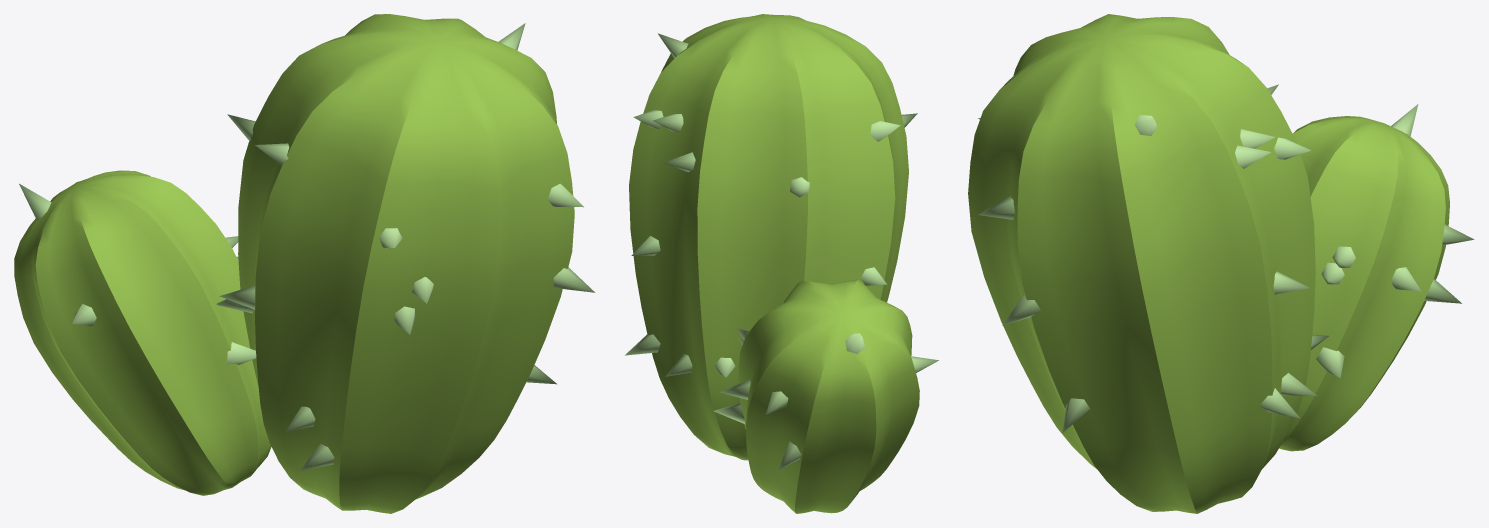
File: Cactus_03.fbx
The picture shows the model from 3 angles, left to right: view 1: azimuth 30°, elevation 25°; view 2: azimuth 150°, elevation 25°; view 3: azimuth 270°, elevation 25°; orthographic projection. The views are drawn at different scales.
Visible parts, largest first — view 1: Cactus_03_Body, Cactus_03_Spines; view 2: Cactus_03_Body, Cactus_03_Spines; view 3: Cactus_03_Body, Cactus_03_Spines.
Boxes of the visible parts, x1,y1,x2,y2 form: Cactus_03_Body: (14, 14, 574, 513); Cactus_03_Spines: (19, 23, 595, 470); Cactus_03_Body: (629, 14, 919, 513); Cactus_03_Spines: (625, 33, 938, 470); Cactus_03_Body: (968, 14, 1449, 513); Cactus_03_Spines: (978, 84, 1474, 432).
Size of the model in its own units: 0.8419 by 0.9248 by 0.888.
